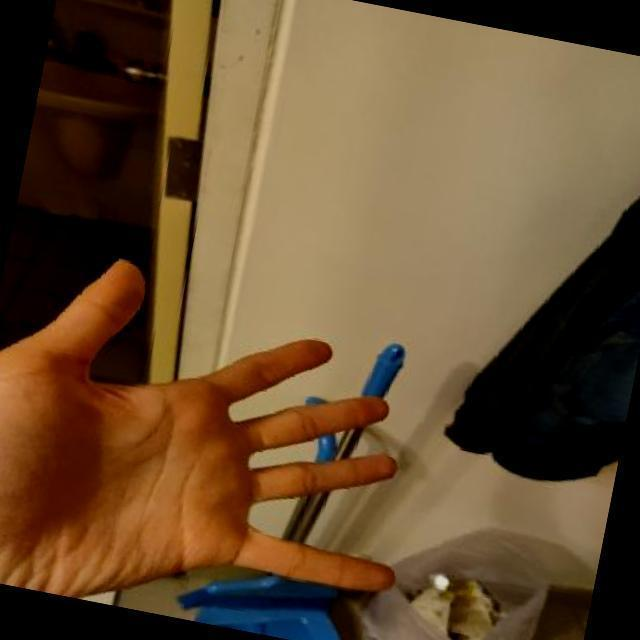hand: (0, 217, 461, 640)
